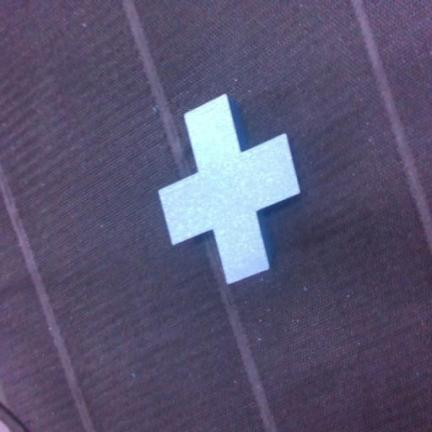cross: (159, 95, 299, 283)
